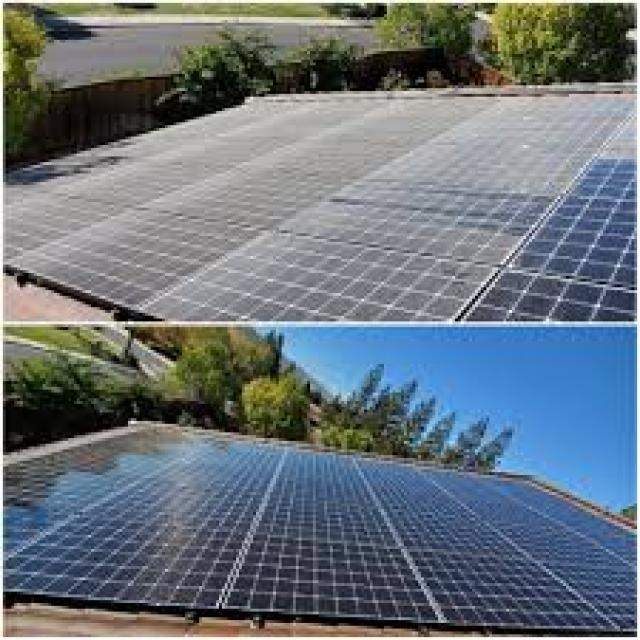clean-solar-panel: (6, 431, 635, 633)
